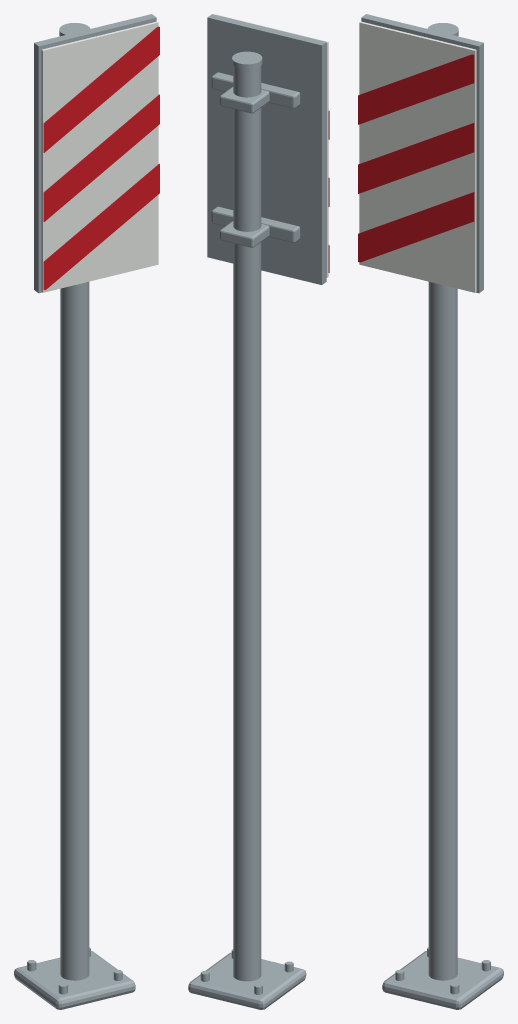
File: DS_Sign_RailwayDist3_R.fbx
3 renders of one model, left to right at view 1: azimuth 30°, elevation 25°; view 2: azimuth 150°, elevation 25°; view 3: azimuth 330°, elevation 25°, orthographic. The views are drawn at different scales.
Visible parts, largest first — view 1: Post.004, Face_Field.002, Stripe_1, Stripe_2, Stripe_0, BasePlate.004, Plate_Back.007; view 2: Post.004, Plate_Back.007, BasePlate.004, RearRail.010, RearRail.009, Face_Field.002, PostClamp.010, PostClamp.009, PostCap.004; view 3: Post.004, Face_Field.002, BasePlate.004, Stripe_1, Stripe_0, Stripe_2, Plate_Back.007.
Part boxes in pixels (x1=…): Post.004: x1=60, y1=281, x2=89, y2=980; Face_Field.002: x1=41, y1=21, x2=158, y2=292; Stripe_1: x1=43, y1=94, x2=159, y2=221; Stripe_2: x1=43, y1=26, x2=159, y2=152; Stripe_0: x1=43, y1=163, x2=159, y2=290; BasePlate.004: x1=14, y1=951, x2=135, y2=1009; Plate_Back.007: x1=34, y1=14, x2=156, y2=293; Post.004: x1=233, y1=66, x2=261, y2=981; Plate_Back.007: x1=207, y1=14, x2=326, y2=284; BasePlate.004: x1=188, y1=952, x2=306, y2=1009; RearRail.010: x1=211, y1=72, x2=300, y2=108; RearRail.009: x1=211, y1=206, x2=300, y2=242; Face_Field.002: x1=216, y1=14, x2=328, y2=277; PostClamp.010: x1=220, y1=86, x2=269, y2=113; PostClamp.009: x1=220, y1=221, x2=269, y2=247; PostCap.004: x1=232, y1=51, x2=262, y2=69; Post.004: x1=428, y1=281, x2=457, y2=980; Face_Field.002: x1=359, y1=21, x2=476, y2=292; BasePlate.004: x1=382, y1=951, x2=503, y2=1009; Stripe_1: x1=358, y1=123, x2=474, y2=193; Stripe_0: x1=358, y1=192, x2=474, y2=262; Stripe_2: x1=358, y1=54, x2=474, y2=124; Plate_Back.007: x1=361, y1=14, x2=483, y2=293.
Bounding box in the file's own units: 35.7 × 281 × 26.2.
